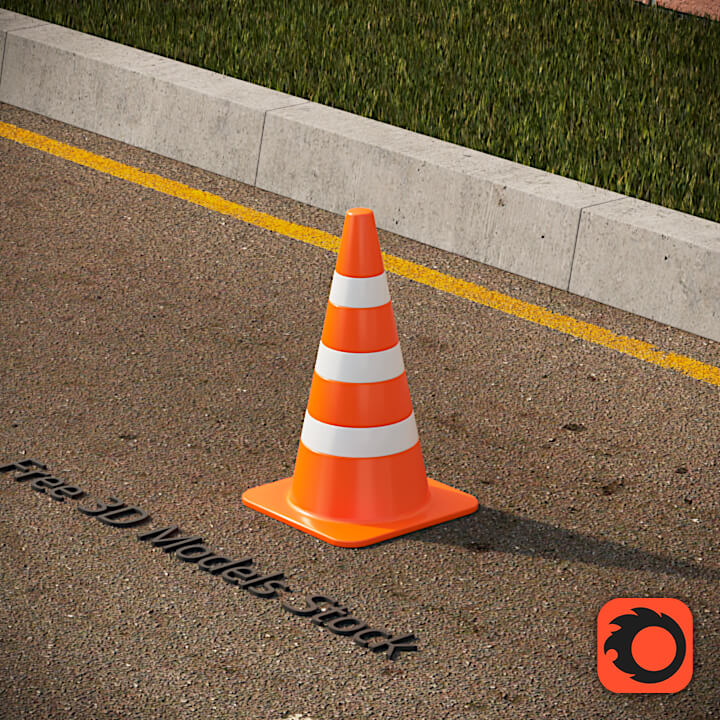cone: (243, 203, 483, 547)
